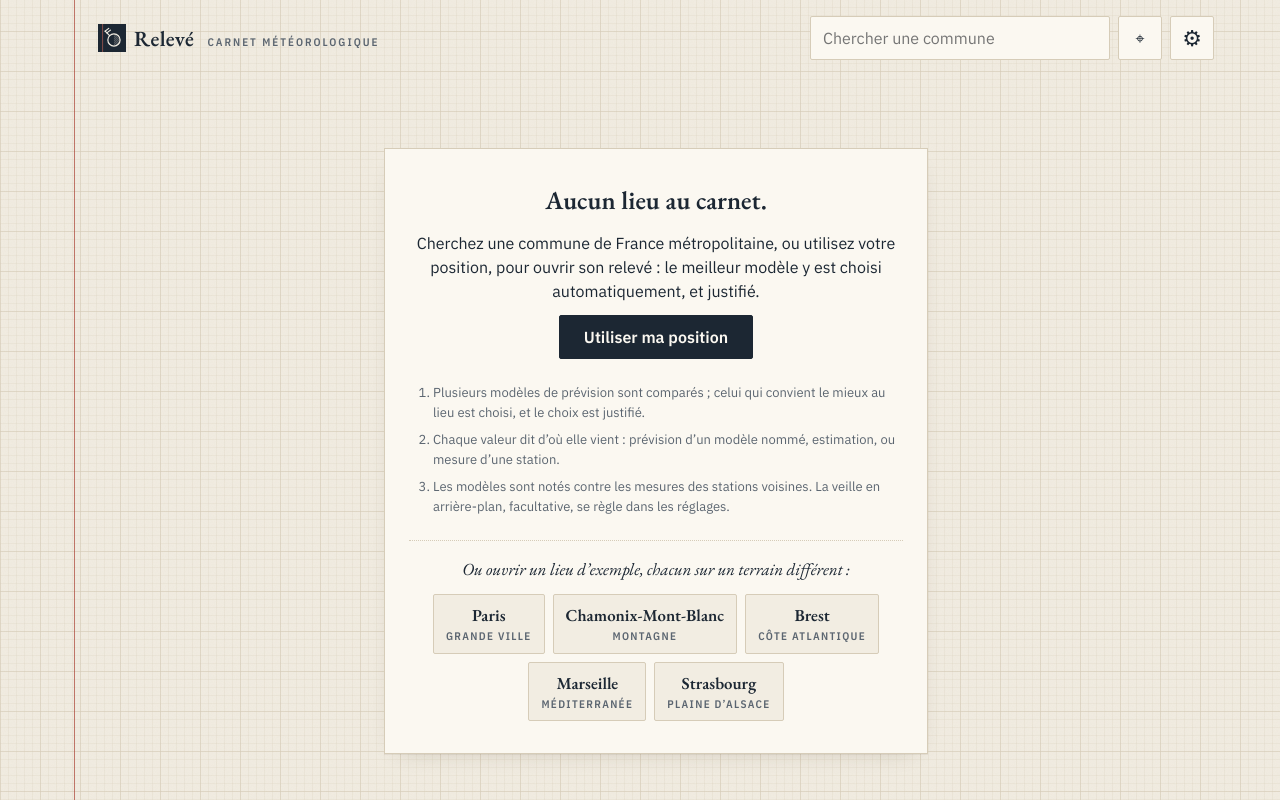
App › ouvre directement le releve d'un lieu d'exemple
What coordinates should you click on to do the following:
click the button with aria-label "Chamonix-Mont-Blanc, montagne"
I would click on:
 (645, 624)
Its box is x1=553 y1=594 x2=737 y2=654.
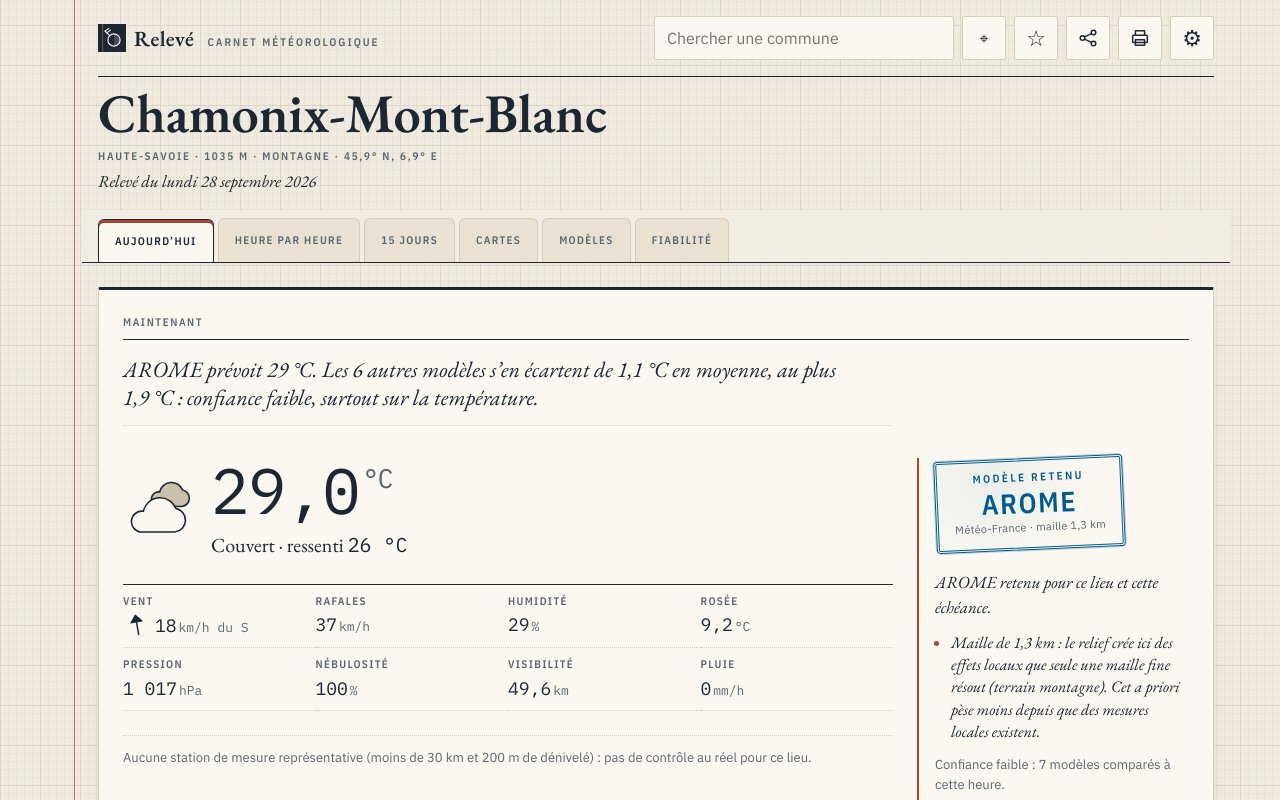
Expected: the heading "Chamonix-Mont-Blanc" is shown, x1=98 y1=77 x2=607 y2=148
Now the text "Aucun lieu au carnet." is gone
